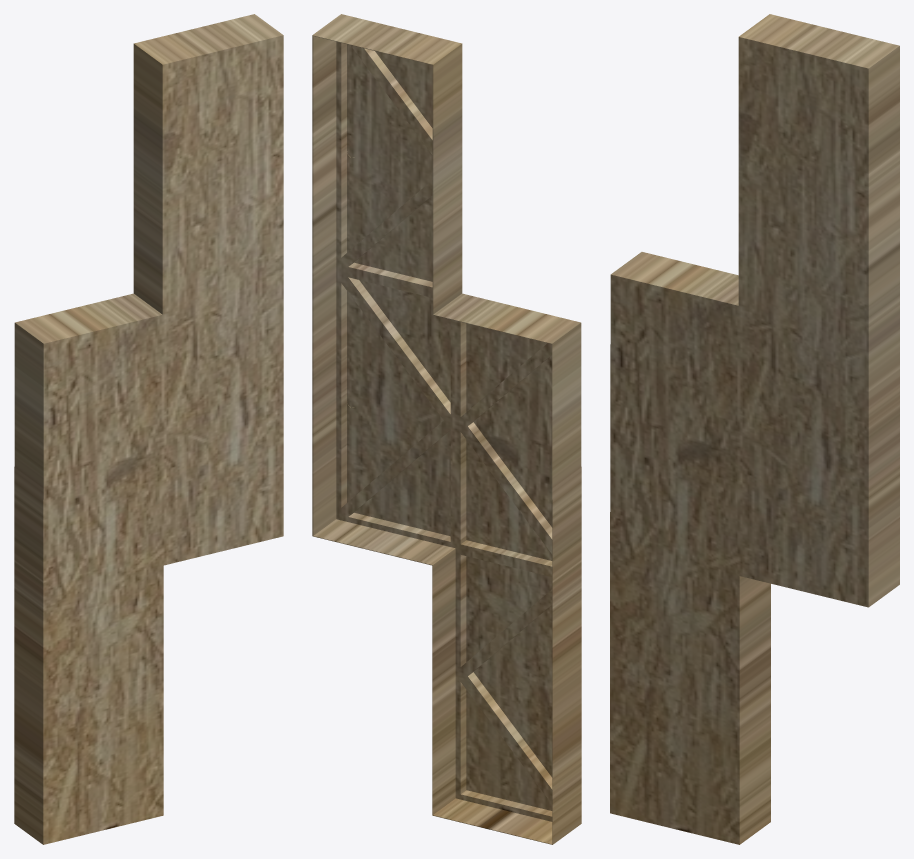
Rendered from KRail_plane_10cm.dae.
The picture shows the model from 3 angles, left to right: view 1: azimuth 30°, elevation 25°; view 2: azimuth 150°, elevation 25°; view 3: azimuth 330°, elevation 25°; orthographic projection. The views are drawn at different scales.
Parts seen in each view (by area): view 1: KRail plane 10cm; view 2: KRail plane 10cm; view 3: KRail plane 10cm.
Part boxes in pixels (<box>): KRail plane 10cm: <box>14,14,283,844</box>; KRail plane 10cm: <box>312,14,581,844</box>; KRail plane 10cm: <box>610,14,899,844</box>.
Size of the model in its own units: 242 by 50.5 by 721.
Materials: 1 (1 with a texture image).
